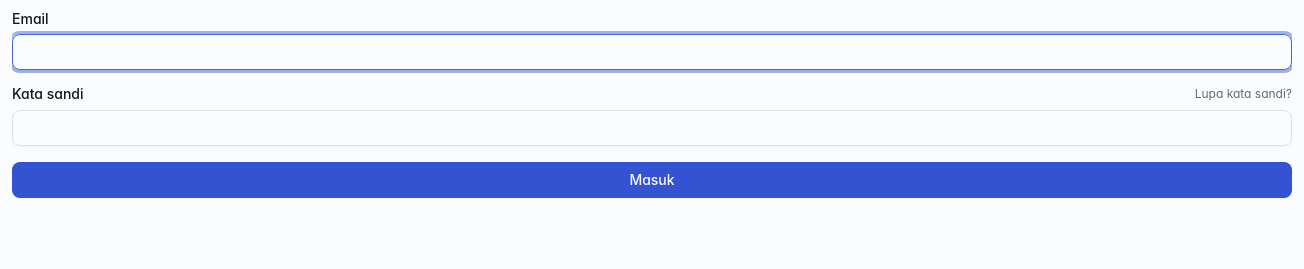
LoginForm › shows the generic API error and clears the password
Type "olivia@acme.test" into the field labelled "Email" at (652, 52), box [12,34,1292,70]
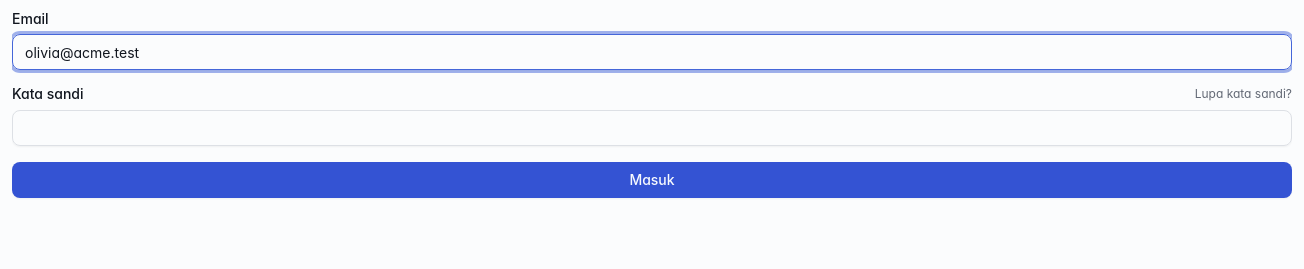
Type "wrong-password" into the password field labelled "Kata sandi Lupa kata sandi?" at (652, 128), box [12,110,1292,146]
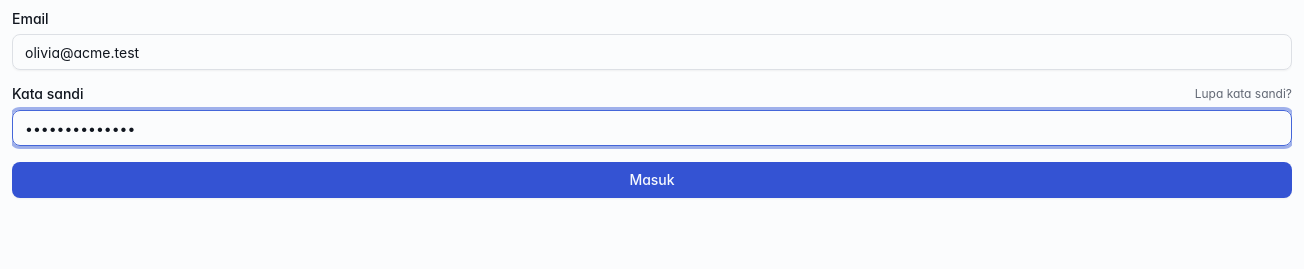
Click the button "Masuk" at (652, 180), box [12,162,1292,198]
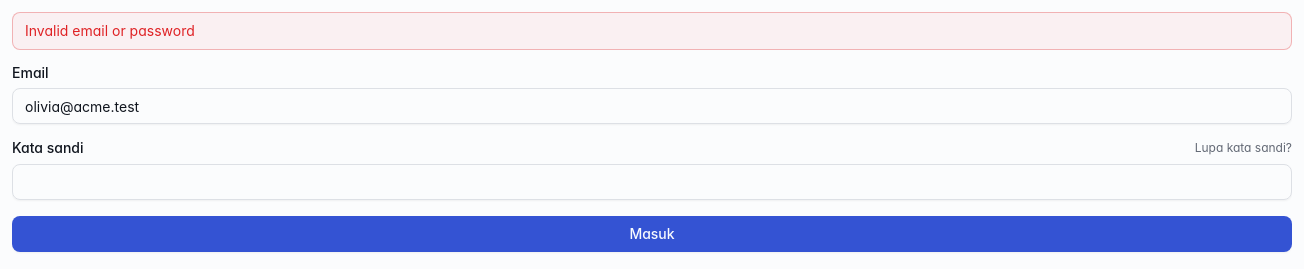
Check: the message reads "Invalid email or password", box [25,22,195,39]
Check: the password field labelled "Kata sandi Lupa kata sandi?" is empty, box [12,164,1292,200]
